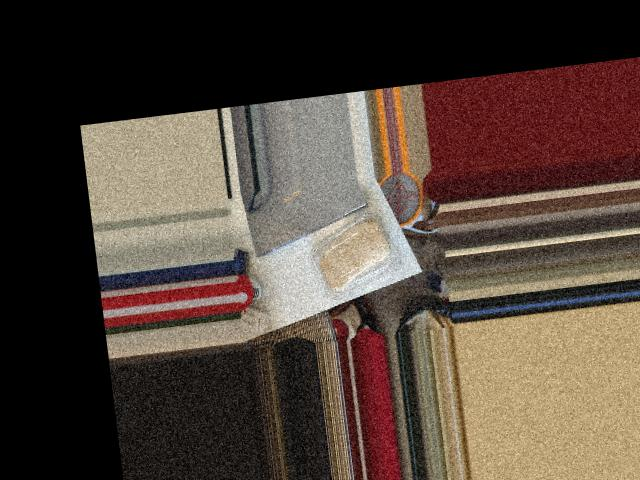cheese: (302, 207, 412, 303)
